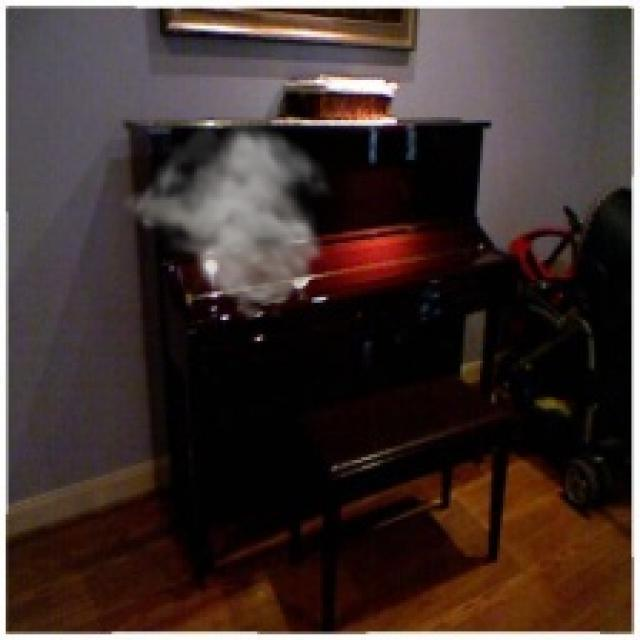Smoke: (117, 117, 343, 323)
